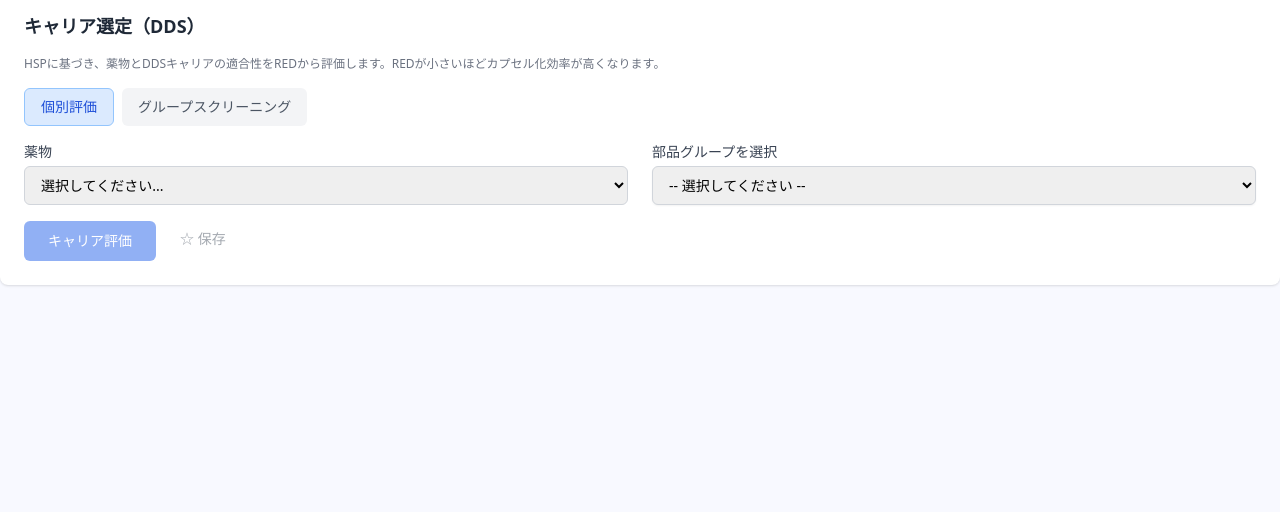
Test: CarrierSelectionView › エラー時にエラーメッセージ表示
The width and height of the screenshot is (1280, 512).
Click the button "グループスクリーニング" at (215, 107), box [122, 88, 307, 126]
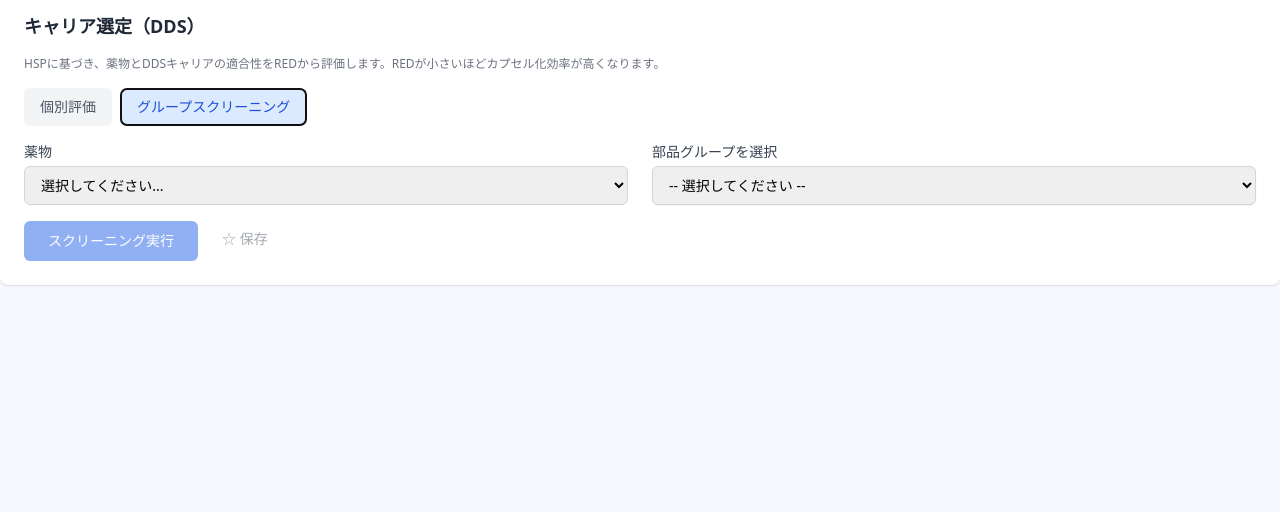
Select "パクリタキセル (Paclitaxel) — 抗がん剤" in the 1st dropdown at (326, 186), box [24, 166, 628, 205]
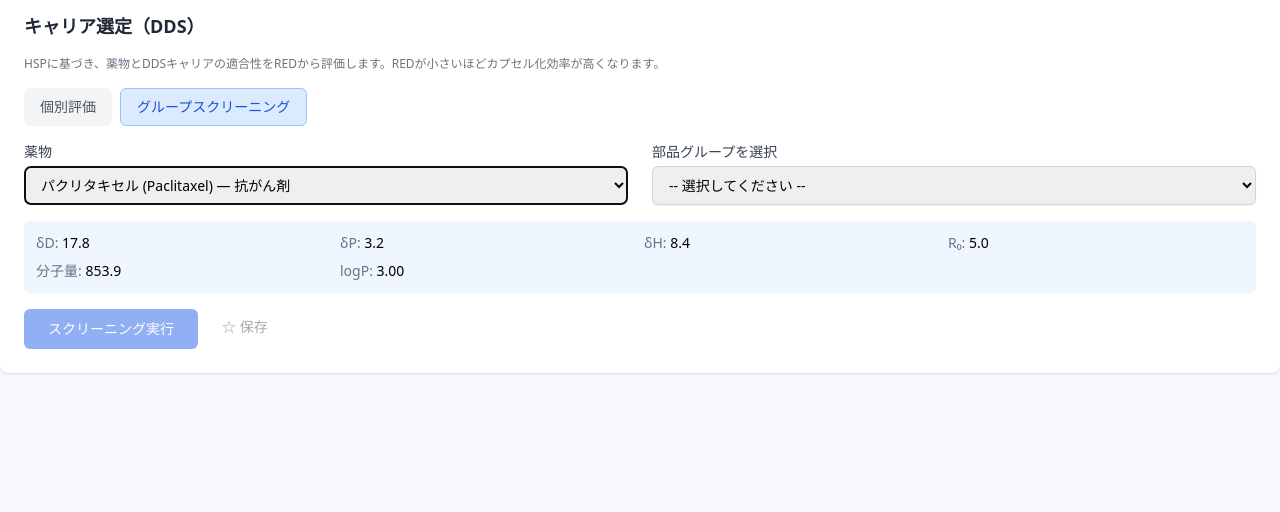
Select "ErrGroup (2部品)" in the dropdown labelled "部品グループを選択" at (954, 186), box [652, 166, 1256, 205]
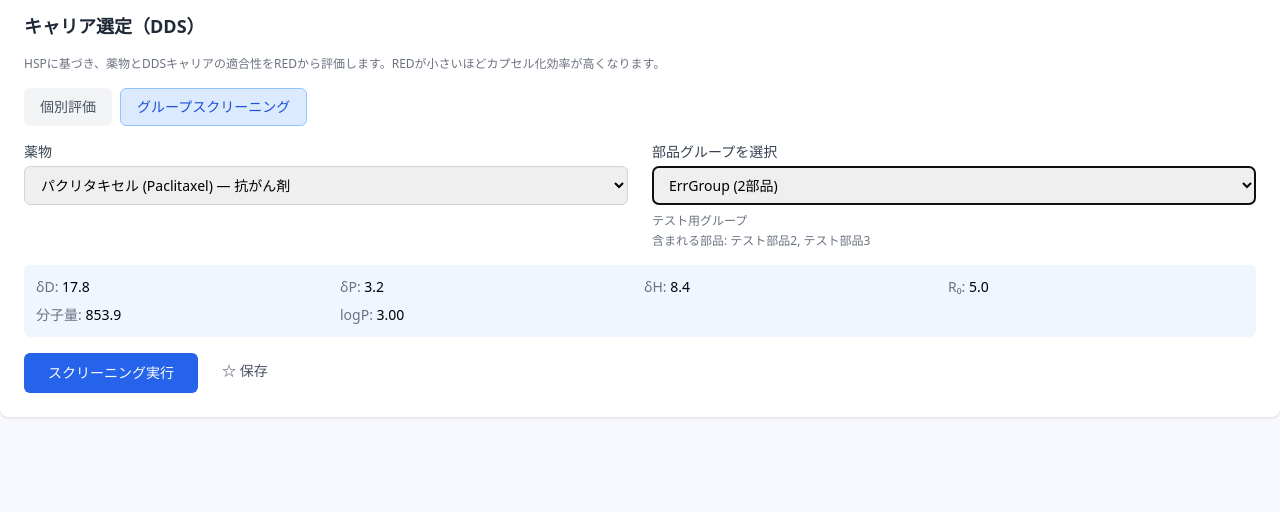
Click the button "スクリーニング実行" at (111, 373), box [24, 353, 198, 393]
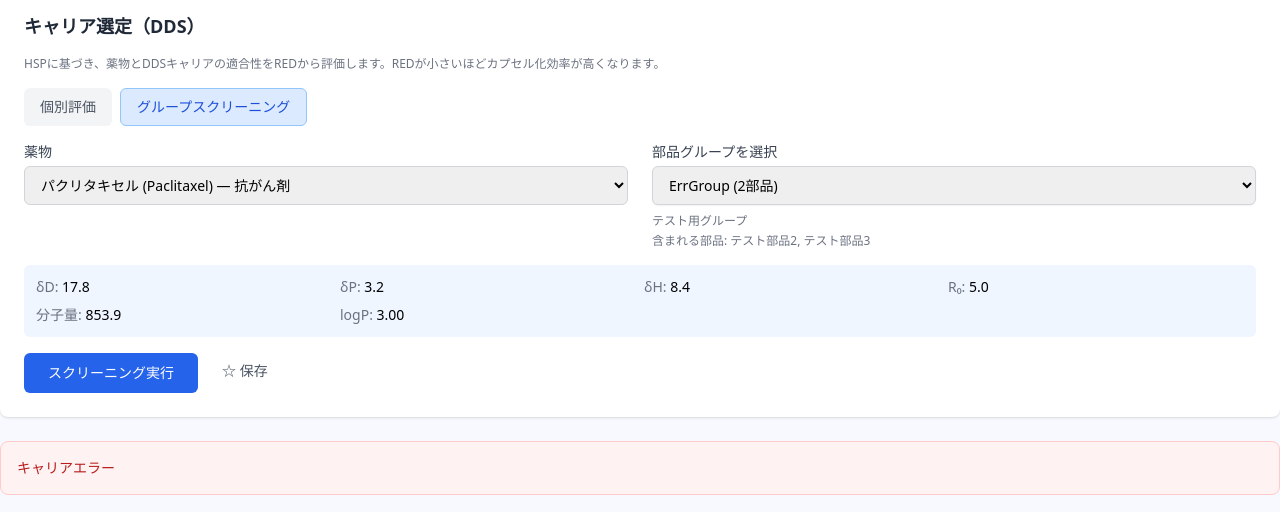
Check: the text "キャリアエラー" is shown, box [0, 441, 1279, 495]
